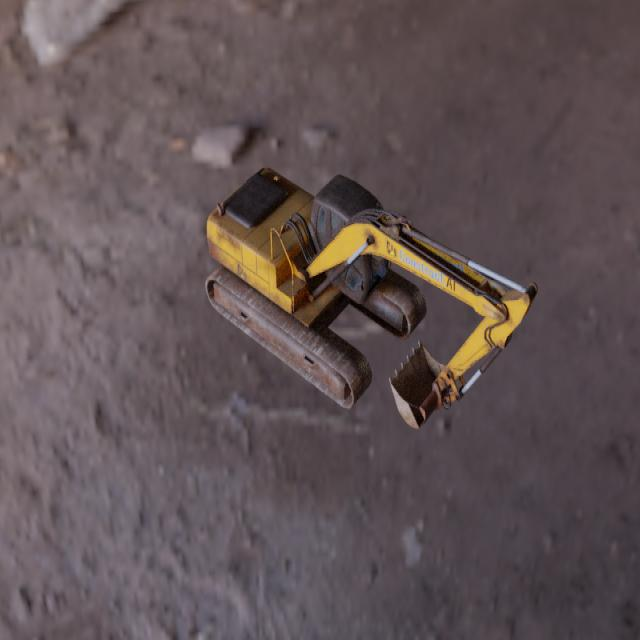excavator: (205, 167, 538, 428)
